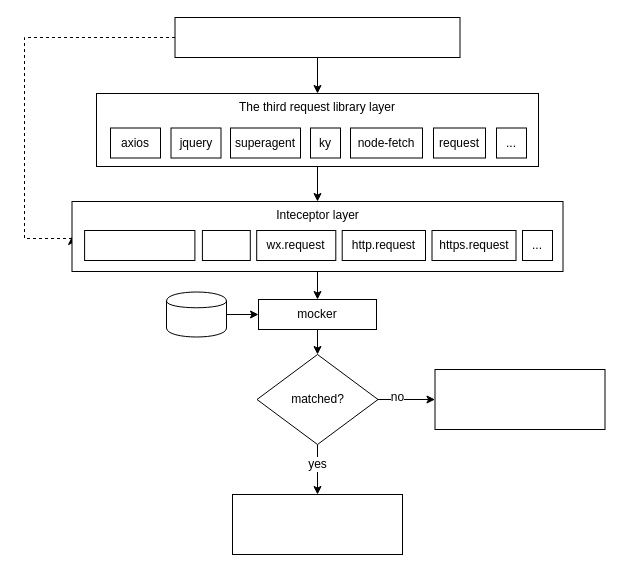
This 623x572 diagram has some shape labels left out. Here are the shapes that lost their labels. From the top down, the centre of each, then its label:
At point 317,37: "Business code layer".
At point 139,245: "XMLHttpRequest".
At point 225,245: "fetch".
At point 196,314: "mock data".
At point 519,399: "do real network request".
At point 317,524: "do mock response".
